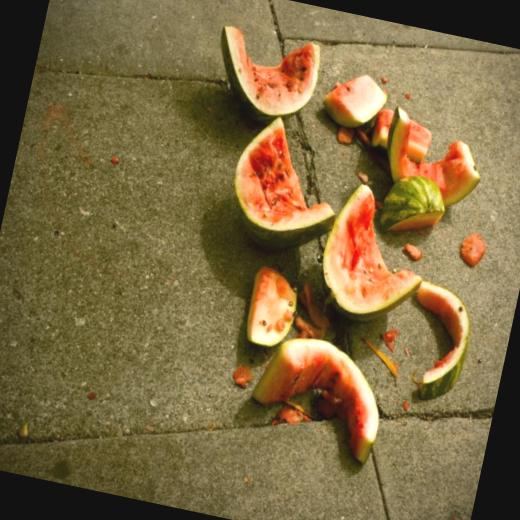Cherry: (138, 21, 520, 484)
